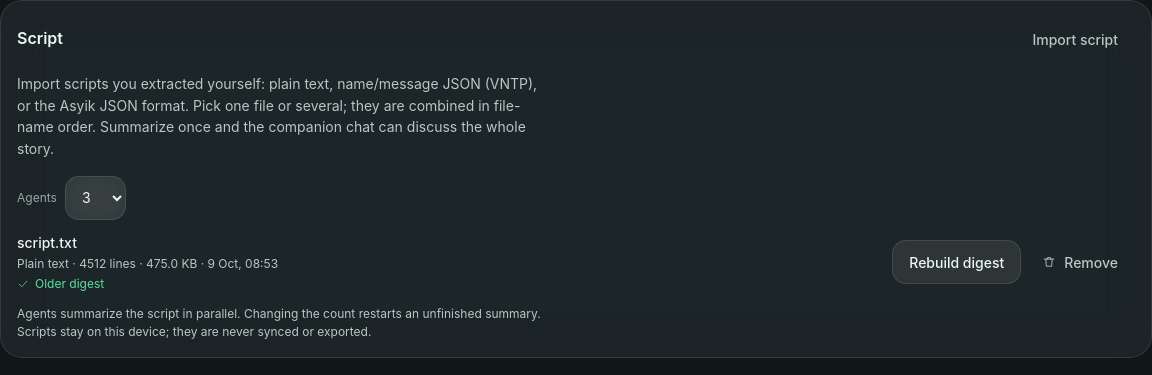
ScriptCard › offers a rebuild for a digest written by an older summarizer
This screenshot has width=1152, height=375.
Check: the text "Older digest" is shown, box [17,276,104,291]
Click the button "Rebuild digest".
click(957, 262)  # box [892,240,1021,284]
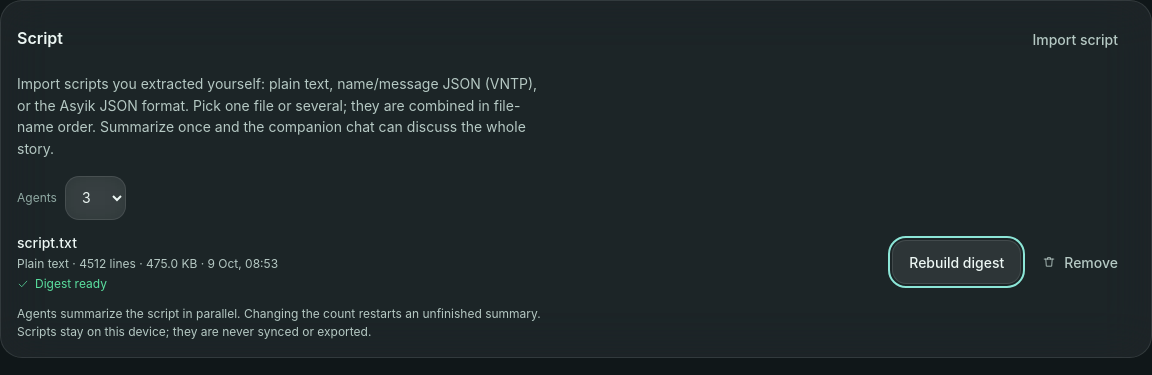
Check: the text "Digest ready" is shown, box [17,276,107,291]
